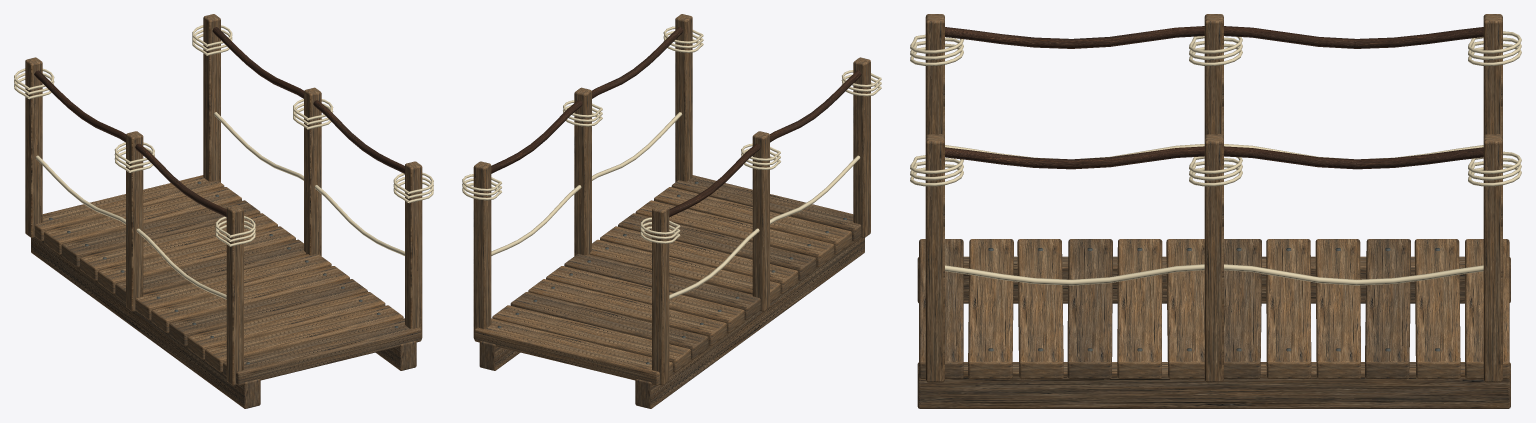
The model's file is bridge_2m.glb.
The picture shows the model from 3 angles, left to right: view 1: azimuth 30°, elevation 25°; view 2: azimuth 150°, elevation 25°; view 3: azimuth 270°, elevation 25°; orthographic projection. The views are drawn at different scales.
Parts seen in each view (by area): view 1: bridge_2m_mesh; view 2: bridge_2m_mesh; view 3: bridge_2m_mesh.
Boxes of the visible parts, x1,y1,x2,y2 form: bridge_2m_mesh: (14, 14, 433, 408); bridge_2m_mesh: (462, 14, 881, 408); bridge_2m_mesh: (910, 14, 1521, 408).
Size of the model in its own units: 1.14 by 1.02 by 2.06.
Materials: 5 (3 with a texture image).
